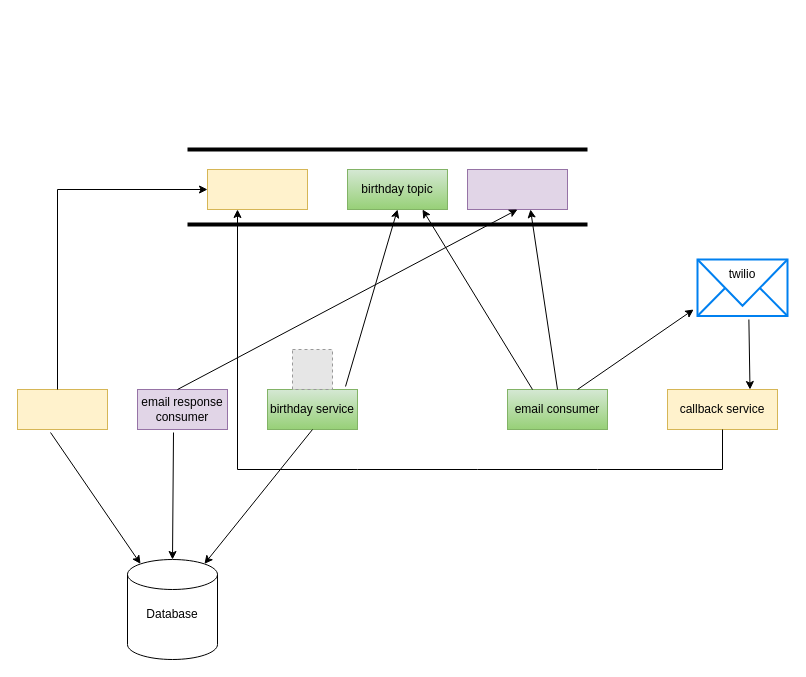
This 806x677 diagram has some shape labels left out. Grey dashed boxes stand in for pictures. The centre of each missing label's shape, as x and y in pixels:
callback: (x=257, y=189)
email callback consumer: (x=62, y=409)
response topic: (x=517, y=189)
